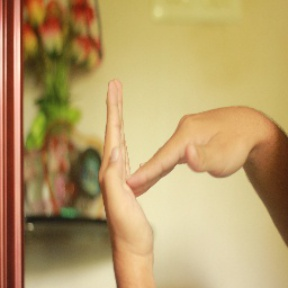Z: (95, 70, 261, 263)
